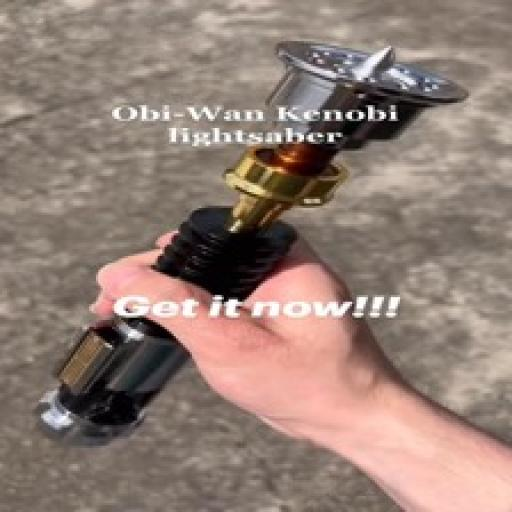lightsaber: (34, 32, 473, 450)
